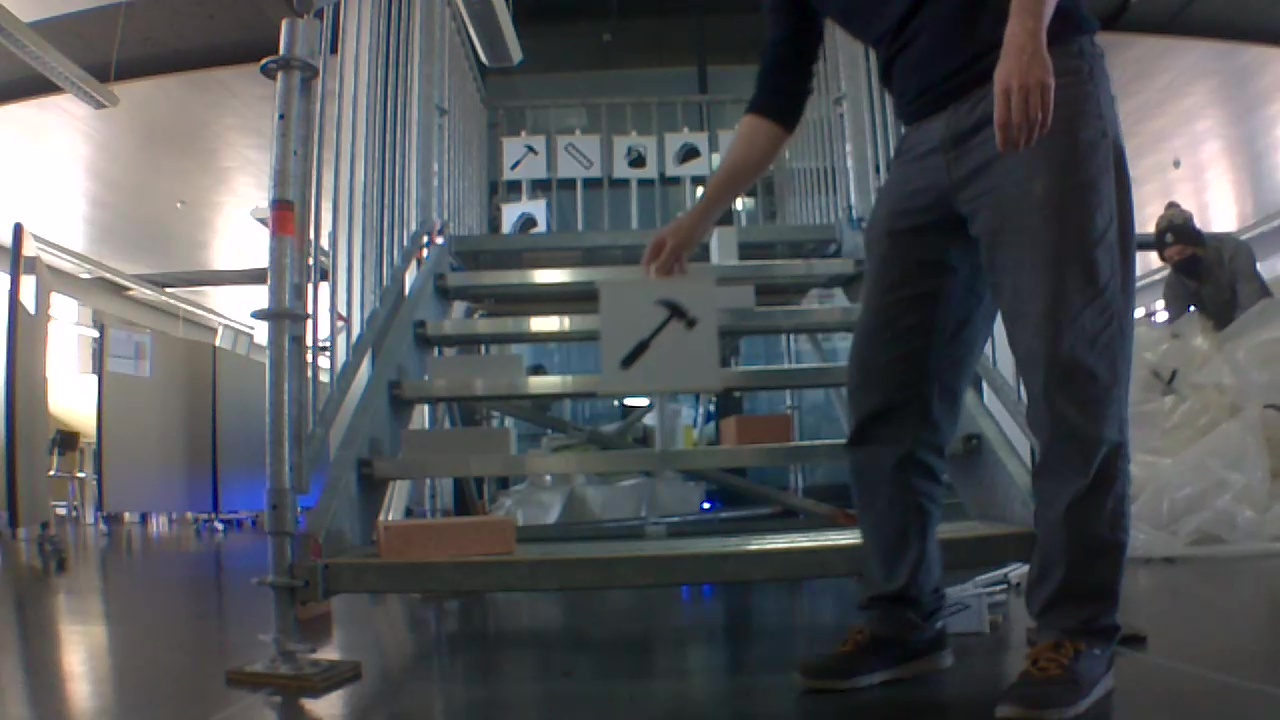brick: (381, 516, 512, 558), (401, 426, 515, 460), (427, 354, 524, 380), (719, 414, 790, 445), (711, 225, 739, 263), (715, 285, 754, 308)
bucket: (621, 144, 649, 170)
hammer: (610, 290, 703, 382), (507, 141, 540, 173)
ruler: (559, 138, 595, 170)
taco: (671, 140, 703, 168), (506, 209, 538, 234)
